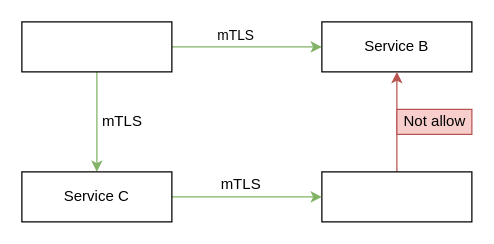
Image size: 494x244. Some labels were removed from this diagram. Each missing label, with the centre of its shape:
Service A: the point at 96,46
Service D: the point at 396,196
